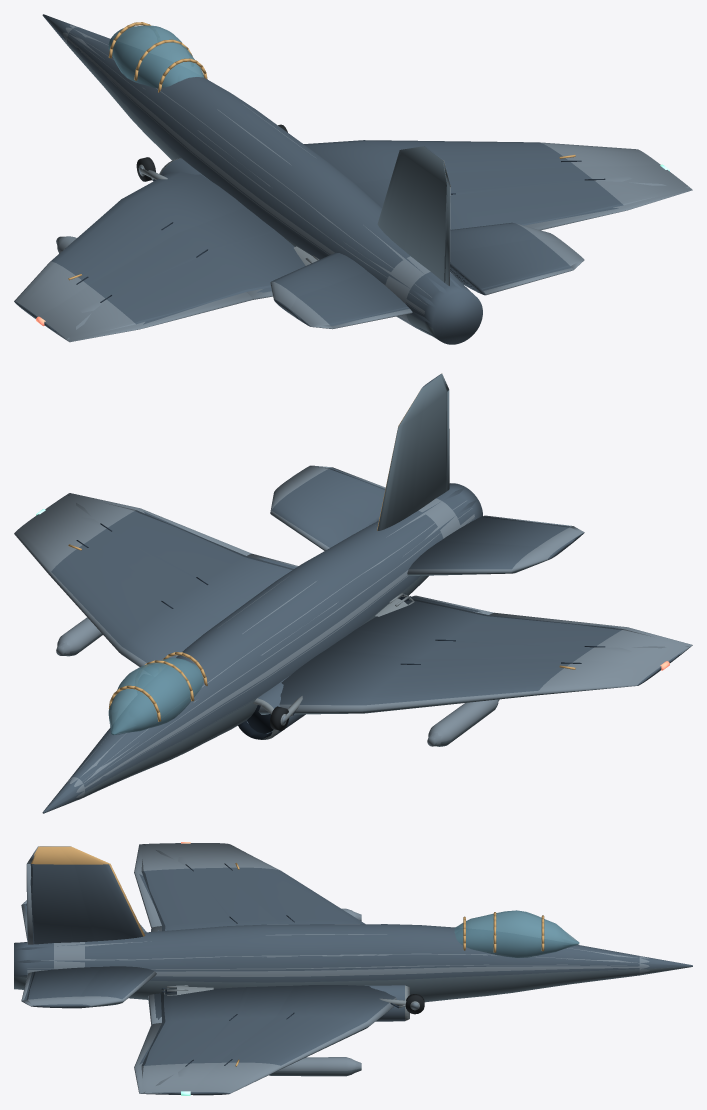
3 views of the same model, one above another, from view 1: azimuth 30°, elevation 25°; view 2: azimuth 150°, elevation 25°; view 3: azimuth 270°, elevation 25° (orthographic). The views are drawn at different scales.
Parts seen in each view (by area): view 1: Airframe shell mesh, Airframe shell.001 mesh, Airframe shell.002 mesh, Canopy glass, Canopy glass.001, Canopy glass.002, Hinged Aileron, Hinged Aileron.001; view 2: Airframe shell mesh, Airframe shell.001 mesh, Airframe shell.002 mesh, Canopy glass, Canopy glass.001, Canopy glass.002, Jamming pod, Jamming pod.001, Hinged Aileron.001; view 3: Airframe shell mesh, Airframe shell.001 mesh, Airframe shell.002 mesh, Canopy glass, Canopy glass.001, Canopy glass.002, Jamming pod.001, Hinged Aileron, Hinged Aileron.001, Gear_1 mesh.
Boxes of the visible parts, x1,y1,x2,y2 form: Airframe shell mesh: (14,14,669,344); Airframe shell.001 mesh: (37,15,690,343); Airframe shell.002 mesh: (43,14,689,343); Canopy glass: (108,25,204,88); Canopy glass.001: (108,25,203,87); Canopy glass.002: (109,27,201,86); Hinged Aileron: (56,292,252,342); Hinged Aileron.001: (524,188,692,230); Airframe shell mesh: (14,382,678,813); Airframe shell.001 mesh: (38,374,690,813); Airframe shell.002 mesh: (43,374,689,812); Canopy glass: (108,657,203,734); Canopy glass.001: (109,658,203,734); Canopy glass.002: (109,658,201,734); Jamming pod: (427,699,499,746); Jamming pod.001: (56,617,102,656); Hinged Aileron.001: (67,493,251,555); Airframe shell mesh: (14,842,692,1095); Airframe shell.001 mesh: (14,843,692,1094); Airframe shell.002 mesh: (14,844,692,1094); Canopy glass: (455,910,578,957); Canopy glass.001: (455,910,578,957); Canopy glass.002: (454,911,578,950); Jamming pod.001: (269,1057,361,1076); Hinged Aileron: (134,844,161,927); Hinged Aileron.001: (134,1023,161,1094); Gear_1 mesh: (379,994,424,1014).
Bounding box in the file's own units: 16.28 × 4.79 × 18.6.
